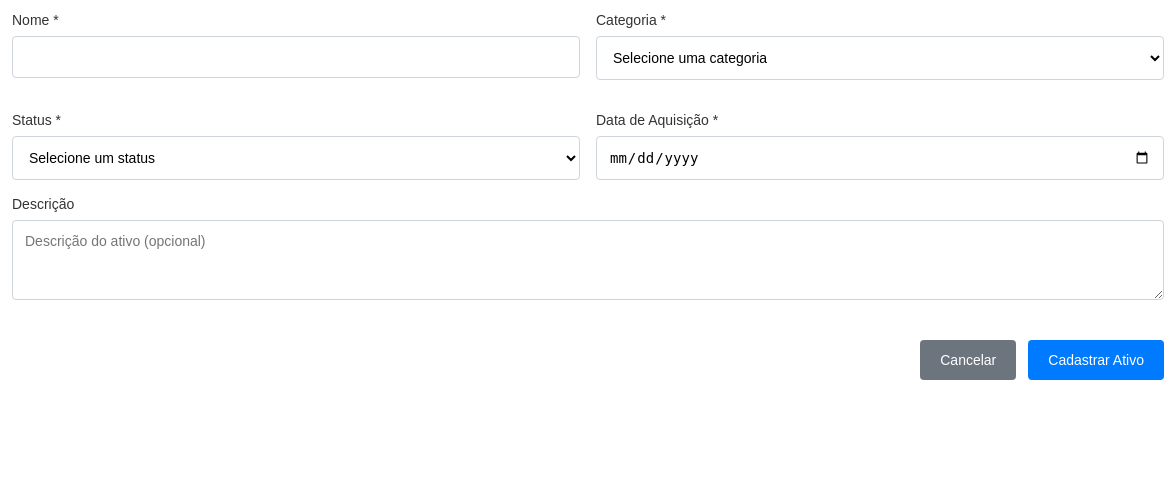
Test case: AssetForm › deve renderizar campos específicos para categoria "Equipamento"
Select "Equipamento" in the dropdown labelled "Categoria *": (880, 58) [596,36,1164,80]
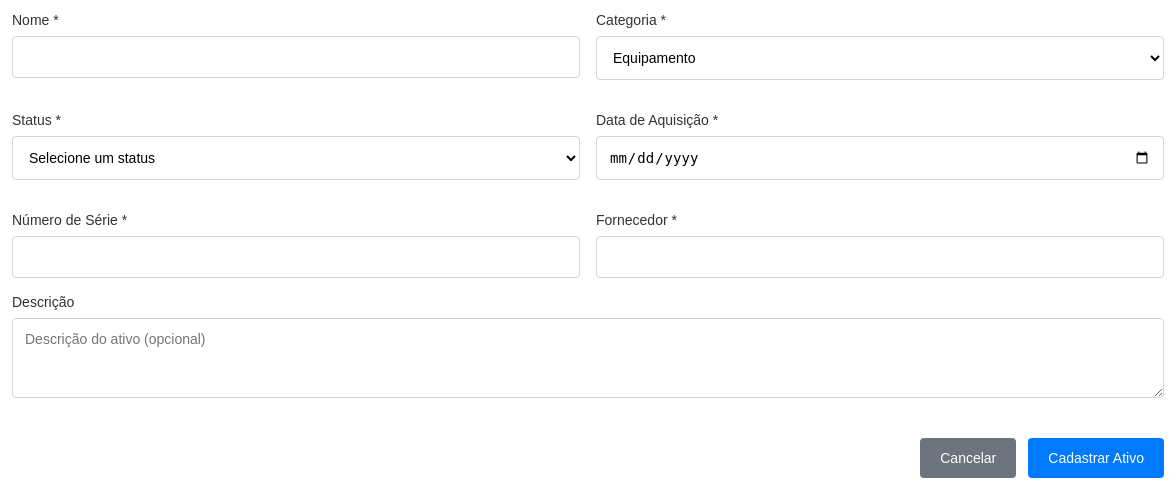
Expected: the field labelled "Número de Série *" is shown, [12,236,580,278]
Expected: the field labelled "Fornecedor *" is shown, [596,236,1164,278]
